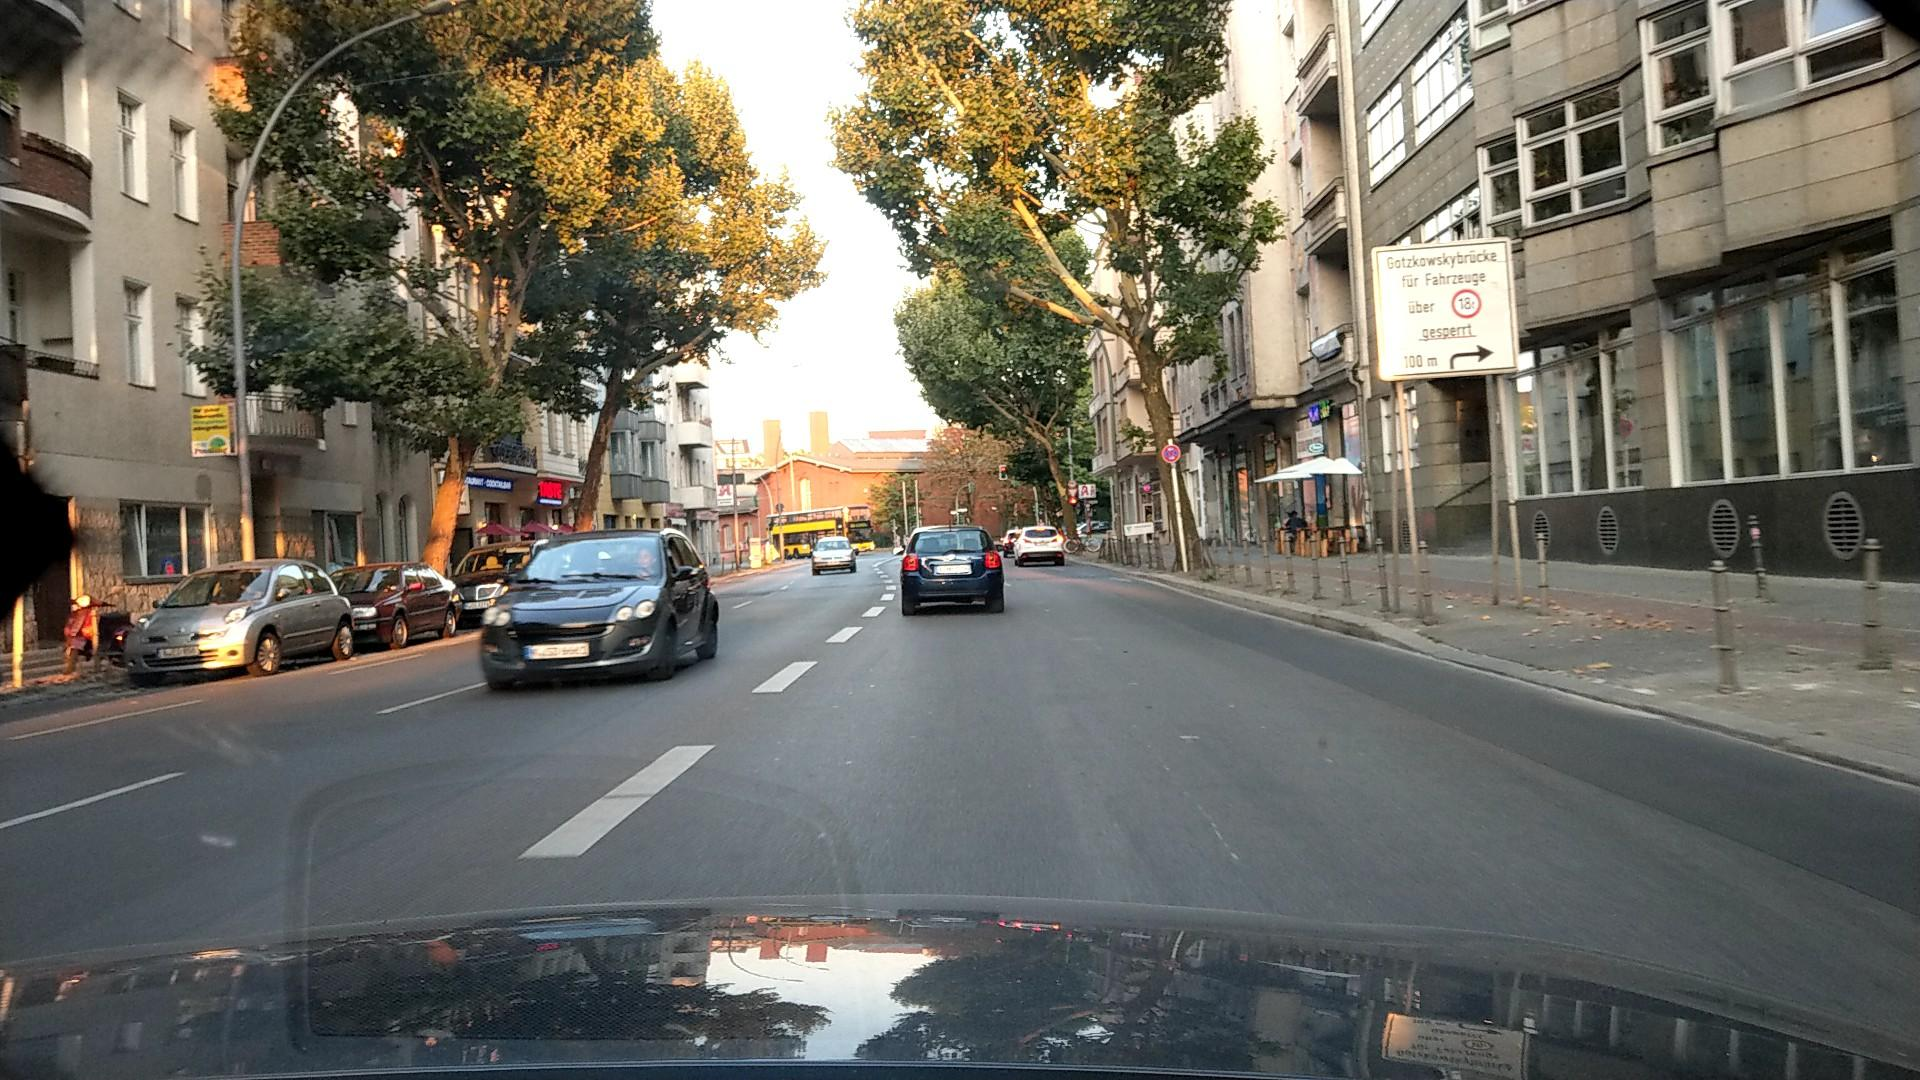Human face: (635, 547, 656, 569)
Vehicle registration plate: (522, 644, 589, 659), (156, 646, 198, 658), (935, 564, 971, 574), (462, 601, 493, 610)
